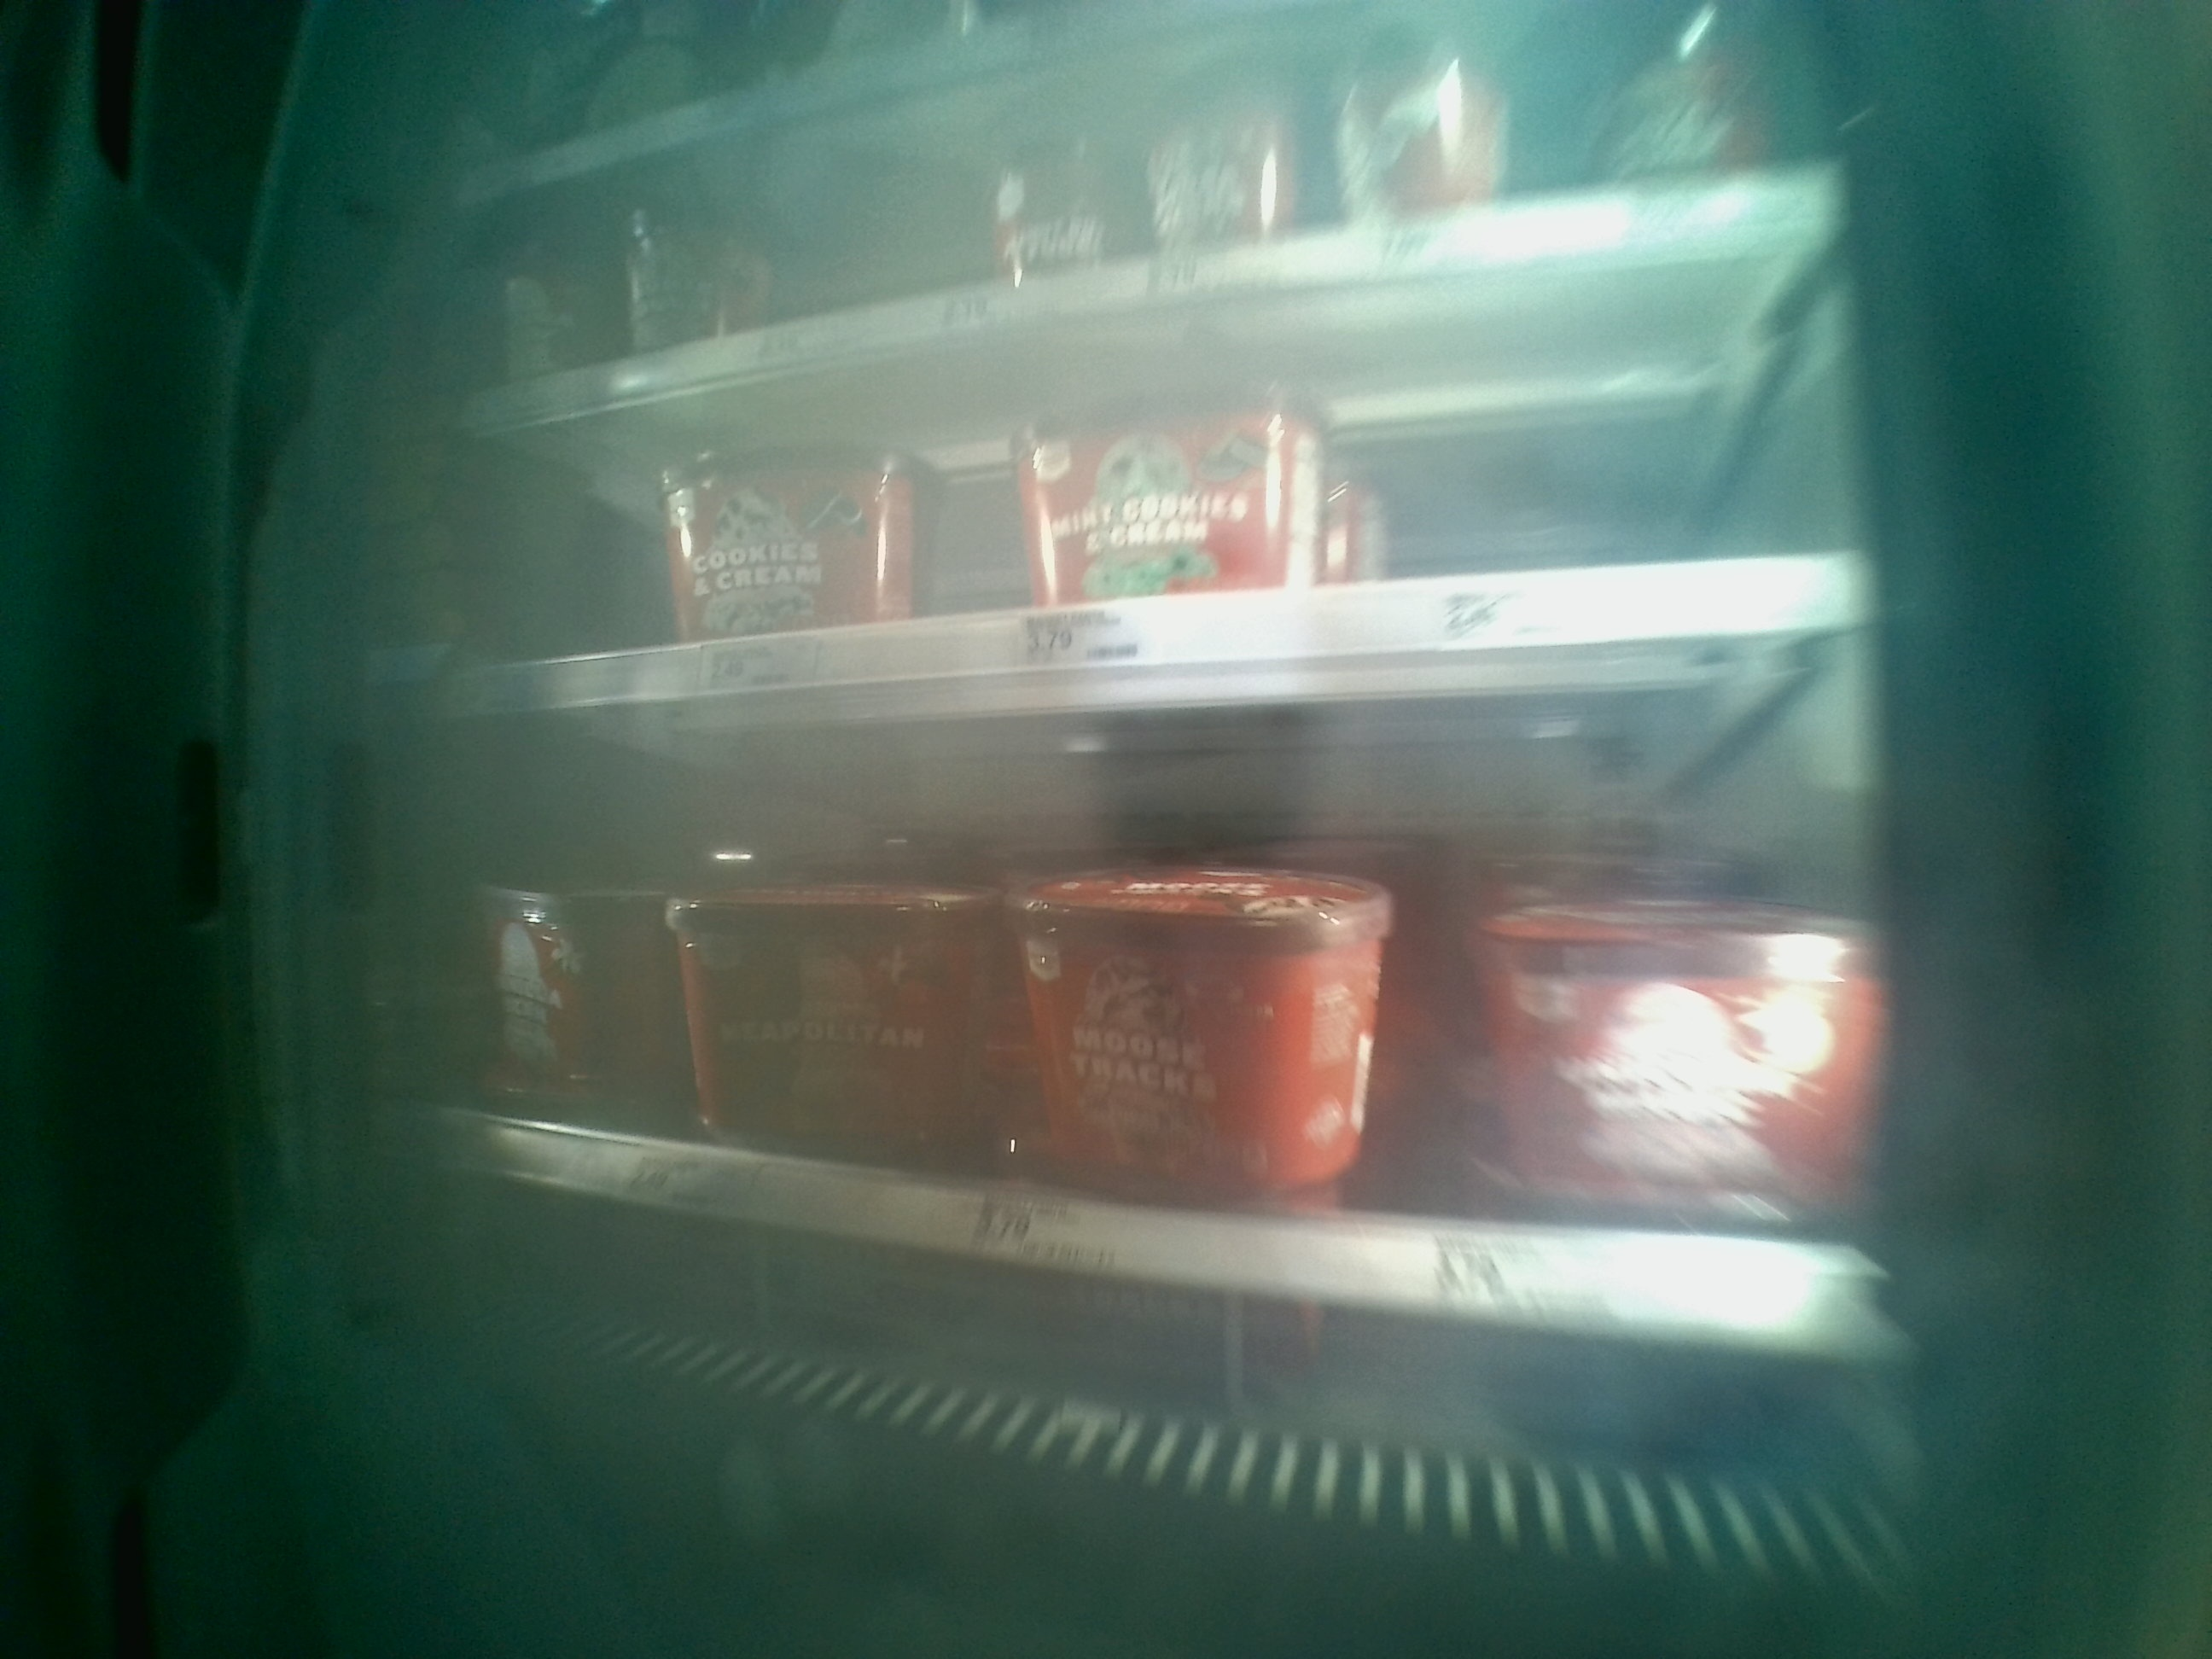shelf: (462, 647, 1890, 1396), (465, 230, 1862, 708)
